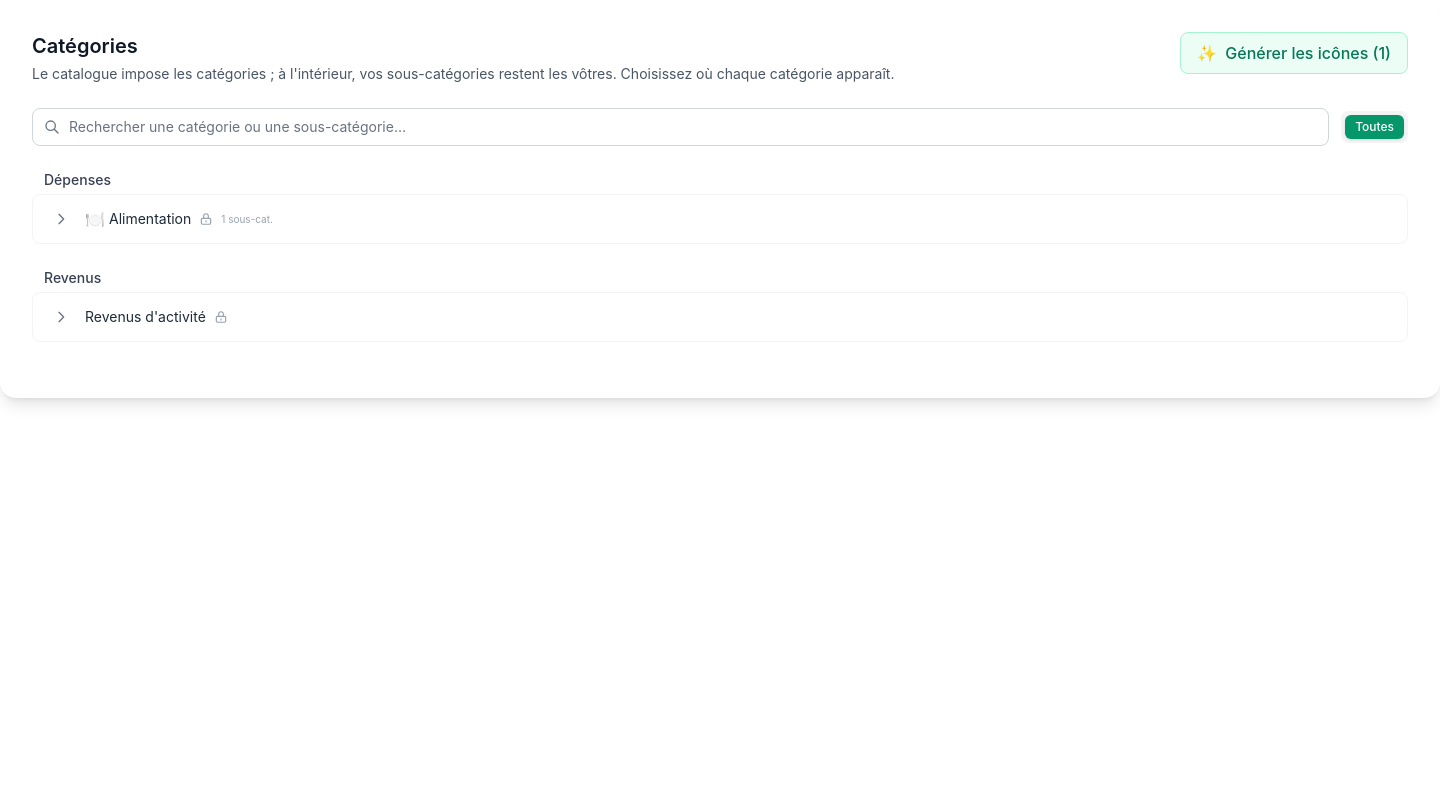
Test: CategoriesSettingsPage › adds a subcategory with the parent's defaults
The image size is (1440, 810).
Click the button named "Déplier Alimentation" at x=61, y=219, box [45,203,77,235]
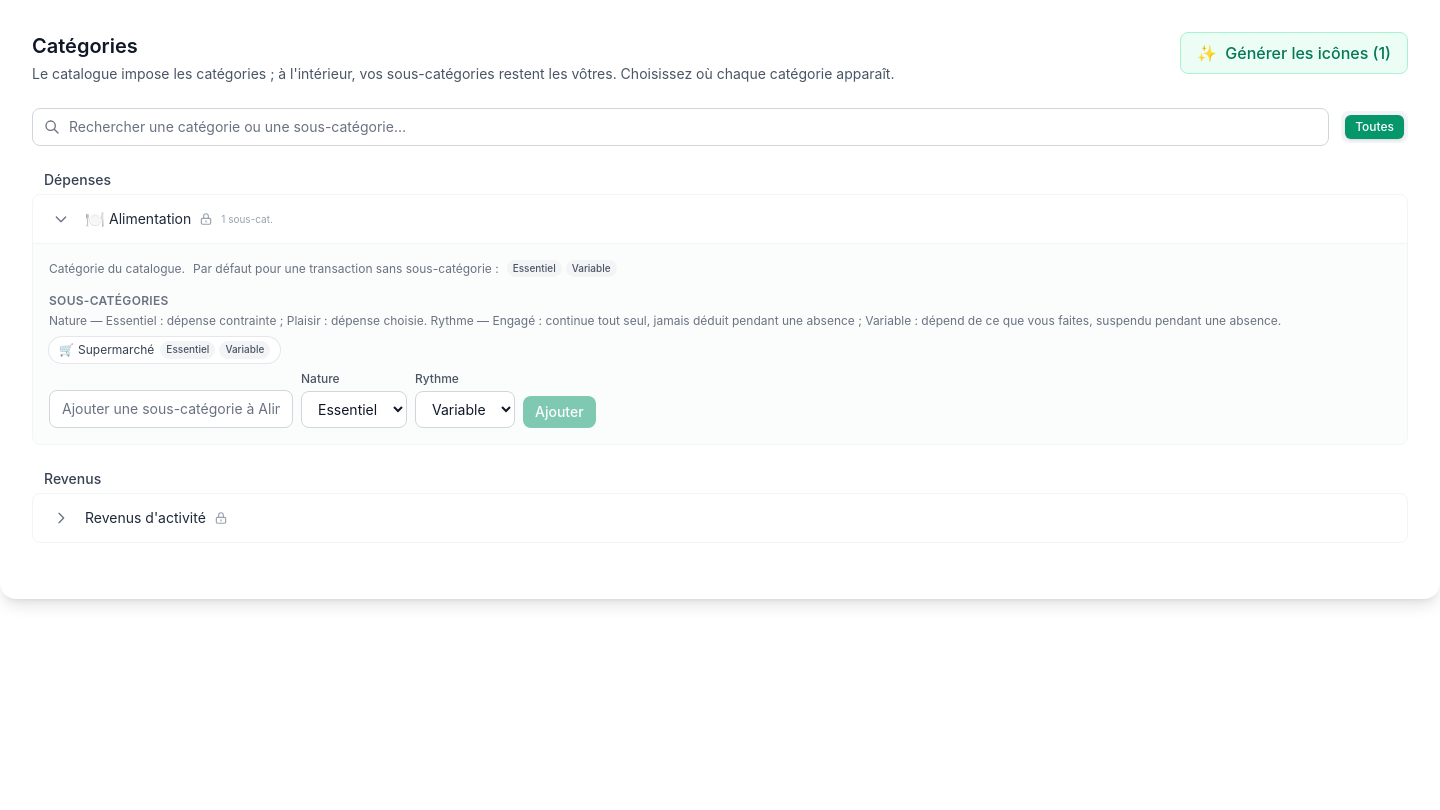
Type "Restaurant" into the field with placeholder "Ajouter une sous-catégorie à Alimentation…" at x=171, y=409, box [49,390,293,428]
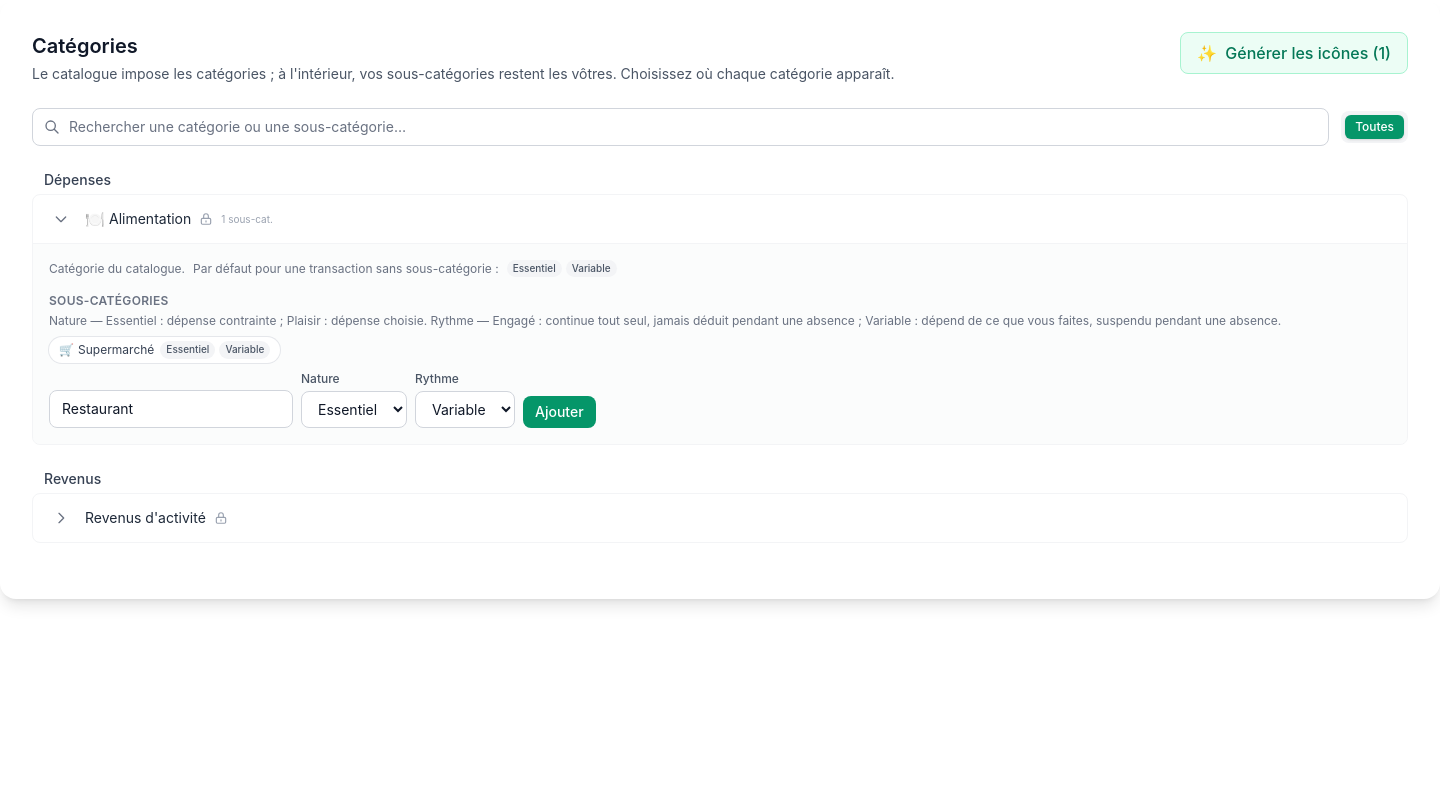
Submit the form, box [48,371,596,428]
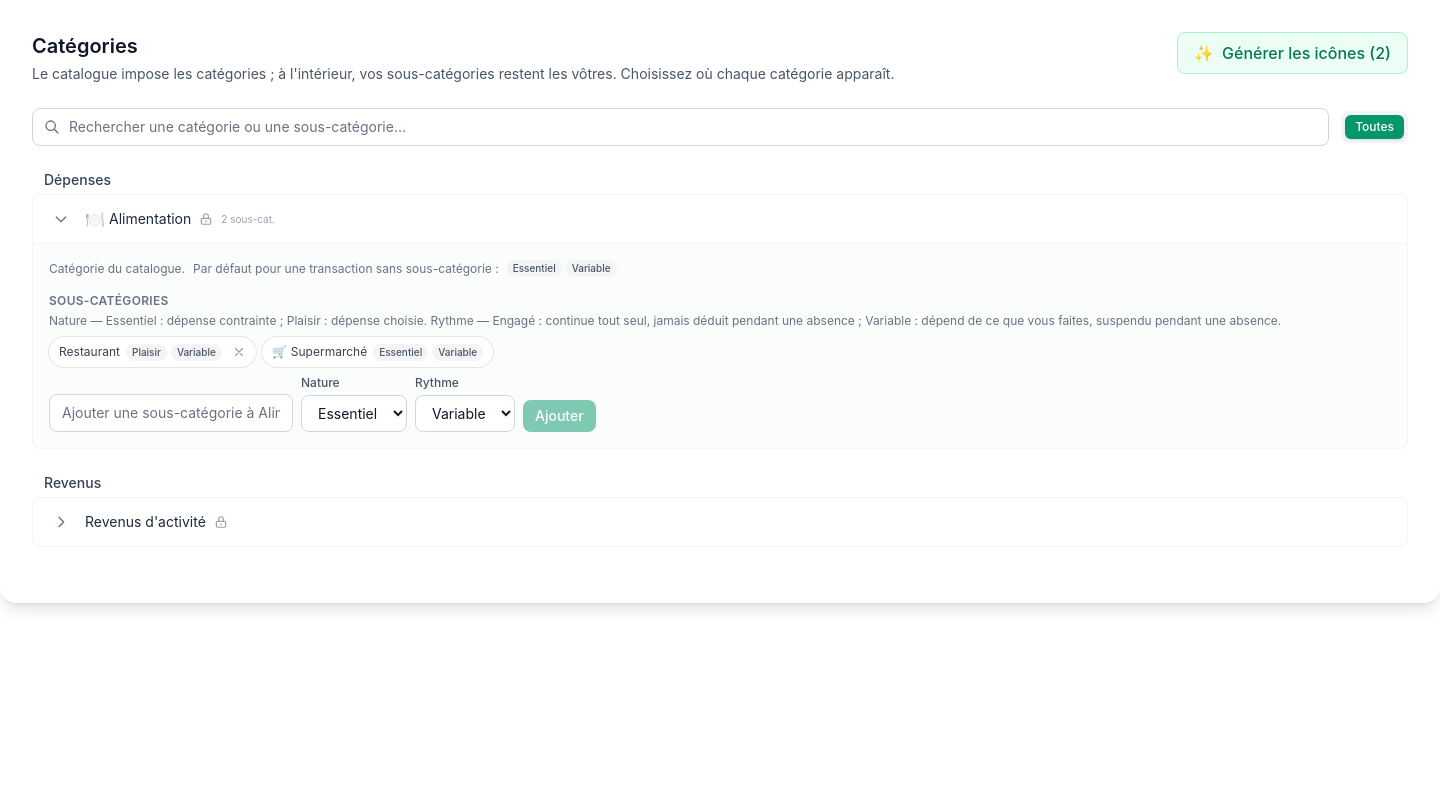
Check: the text "Restaurant" is shown, box [59,344,120,360]
